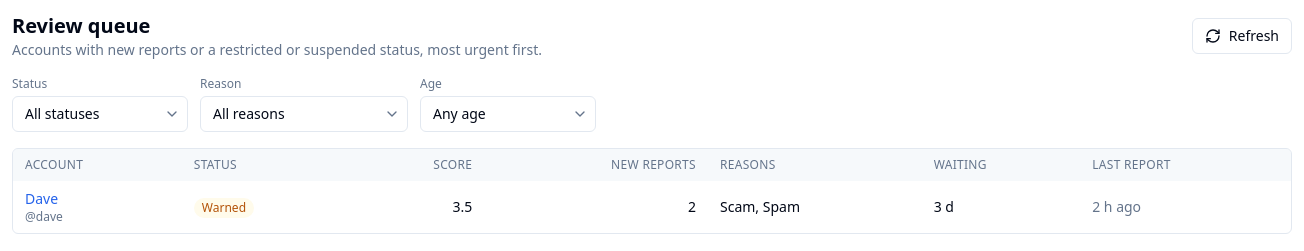
Test: QueuePage › reloads with the chosen filters and can clear them
The width and height of the screenshot is (1304, 251).
expect the link "Dave" is shown: met, box top-left (25, 189), bottom-right (58, 208)
Select "Restricted" in the dropdown labelled "Status" at x=100, y=114, box top-left (12, 96), bottom-right (188, 132)
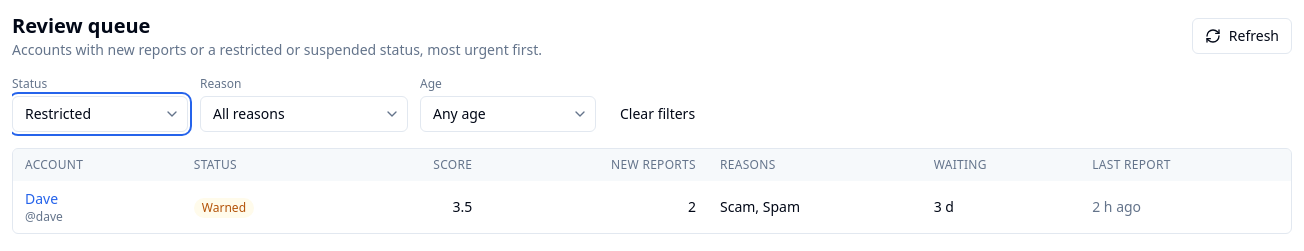
Select "Harassment" in the dropdown labelled "Reason" at x=304, y=114, box top-left (200, 96), bottom-right (408, 132)
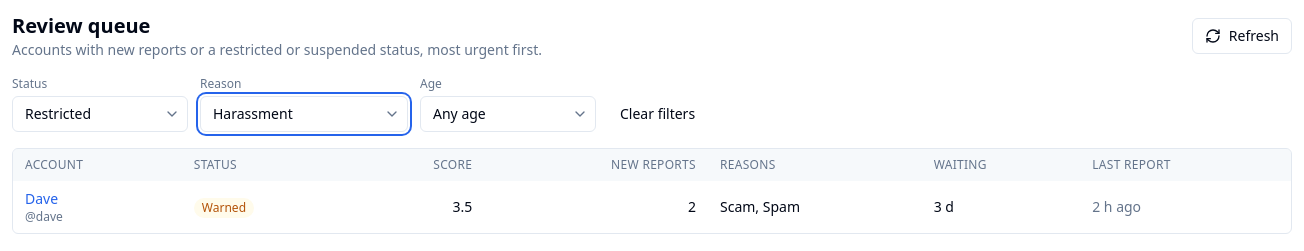
Select "Over 7 days" in the dropdown labelled "Age" at x=508, y=114, box top-left (420, 96), bottom-right (596, 132)
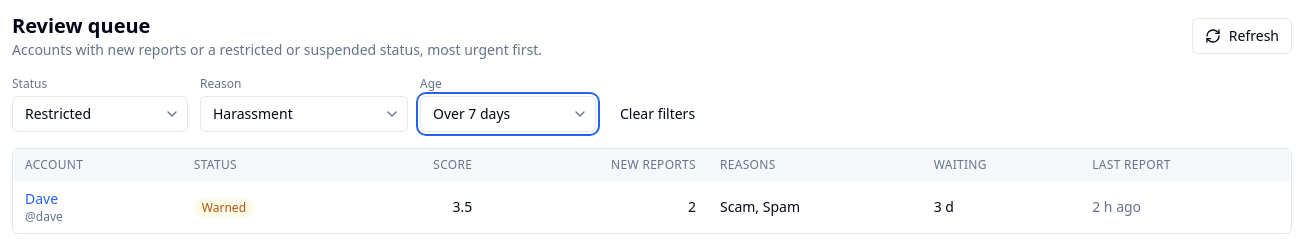
Click the button "Clear filters" at x=658, y=114, box top-left (608, 96), bottom-right (707, 132)
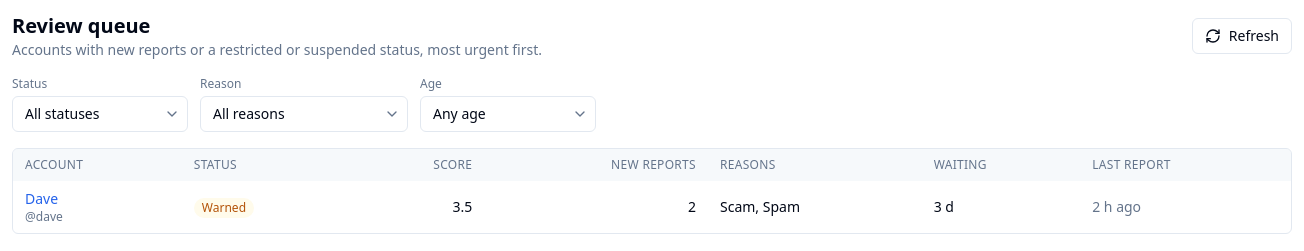
expect the button "Clear filters" is gone: met
